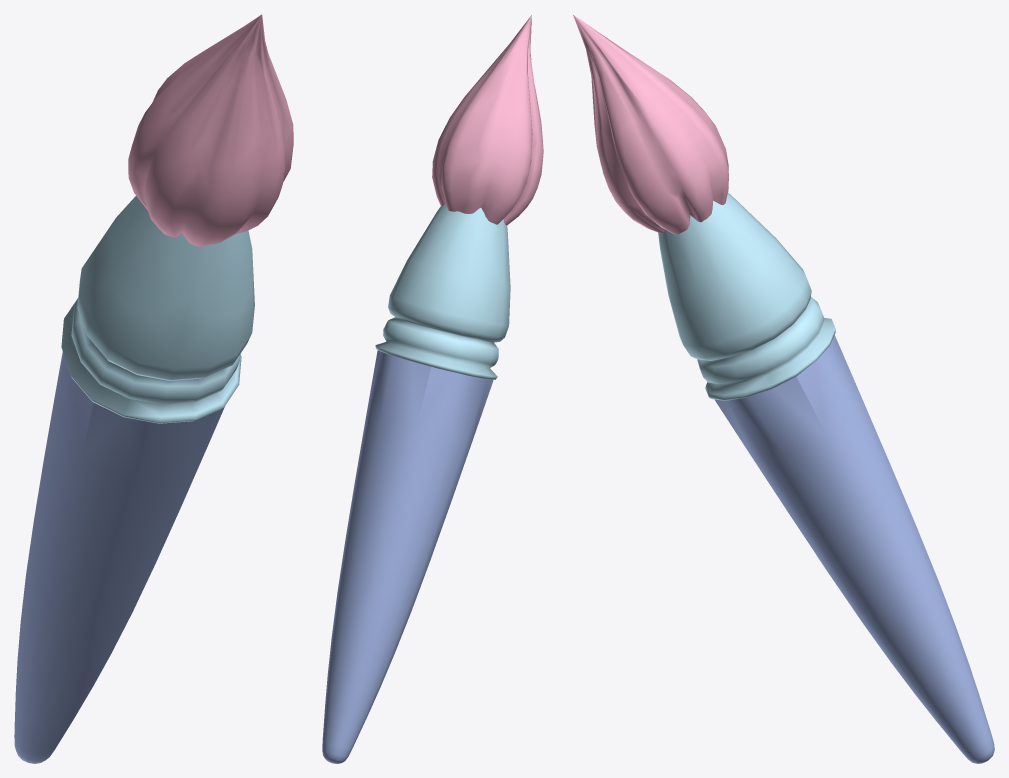
3 renders of one model, left to right at view 1: azimuth 30°, elevation 25°; view 2: azimuth 150°, elevation 25°; view 3: azimuth 270°, elevation 25°, orthographic. The views are drawn at different scales.
Visible parts, largest first — view 1: s.0842, s.0843, s.0841; view 2: s.0842, s.0843, s.0841; view 3: s.0842, s.0843, s.0841.
Boxes of the visible parts, x1=… form: s.0842: x1=14, y1=351, x2=224, y2=763; s.0843: x1=61, y1=196, x2=254, y2=423; s.0841: x1=128, y1=14, x2=293, y2=247; s.0842: x1=322, y1=350, x2=493, y2=763; s.0843: x1=375, y1=203, x2=510, y2=379; s.0841: x1=432, y1=15, x2=543, y2=225; s.0842: x1=714, y1=335, x2=994, y2=763; s.0843: x1=658, y1=192, x2=835, y2=400; s.0841: x1=572, y1=14, x2=728, y2=234.
Bounding box in the file's own units: 8.47 × 47.34 × 24.65.
